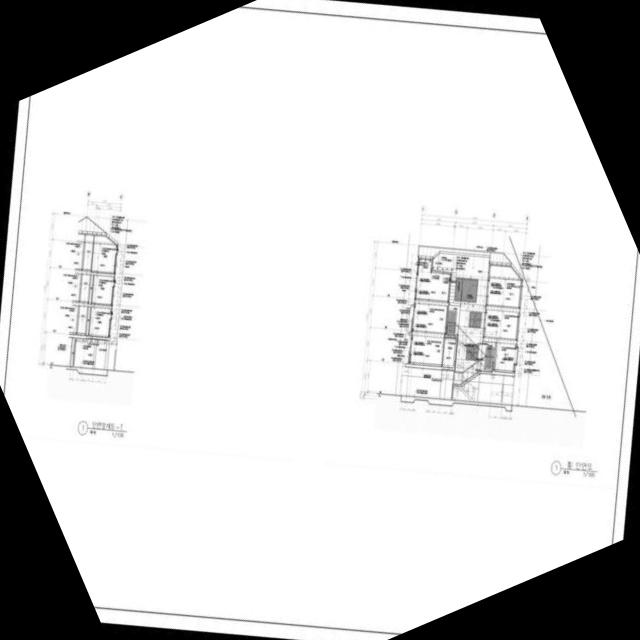background: (0, 0, 640, 640)
space_bedroom: (415, 259, 449, 302), (486, 277, 520, 308), (483, 309, 517, 340), (409, 335, 443, 366), (494, 342, 516, 372)
space_living_room: (412, 303, 446, 334)
space_other: (73, 338, 116, 370), (82, 234, 93, 271), (489, 265, 519, 278), (76, 306, 86, 335), (79, 274, 89, 302), (85, 306, 89, 335), (70, 337, 74, 366), (88, 275, 92, 303)
space_toilet: (90, 235, 116, 273), (90, 275, 113, 305), (88, 307, 110, 337), (441, 337, 455, 367)
